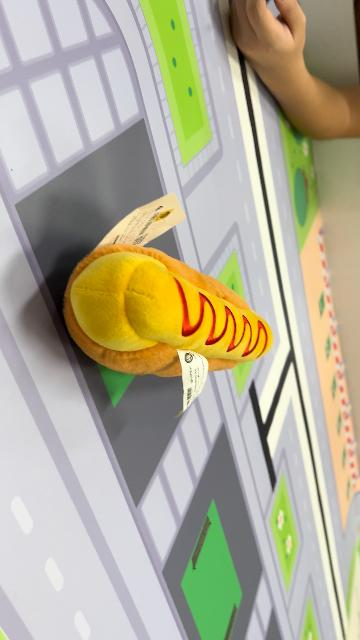hotdog: (62, 242, 276, 380)
